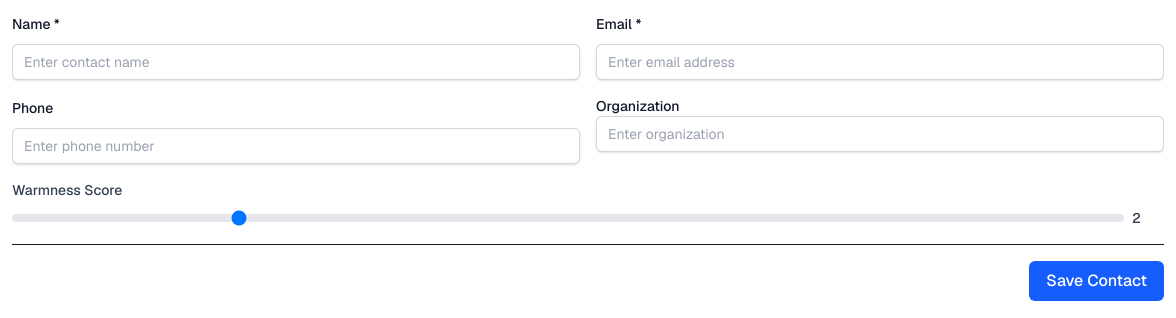
Scenario: ContactForm with Organization Search › Organization Search Functionality › shows option to create new organization when no matches found
In the field labelled "Organization": (880, 134) [596, 116, 1164, 152], type "New Company"
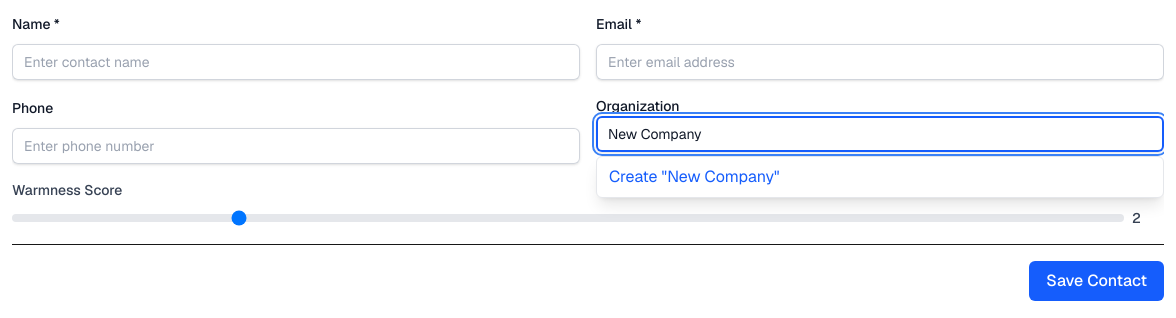
expect the text "Create \"New Company\"" is shown: met, box [609, 166, 780, 187]
